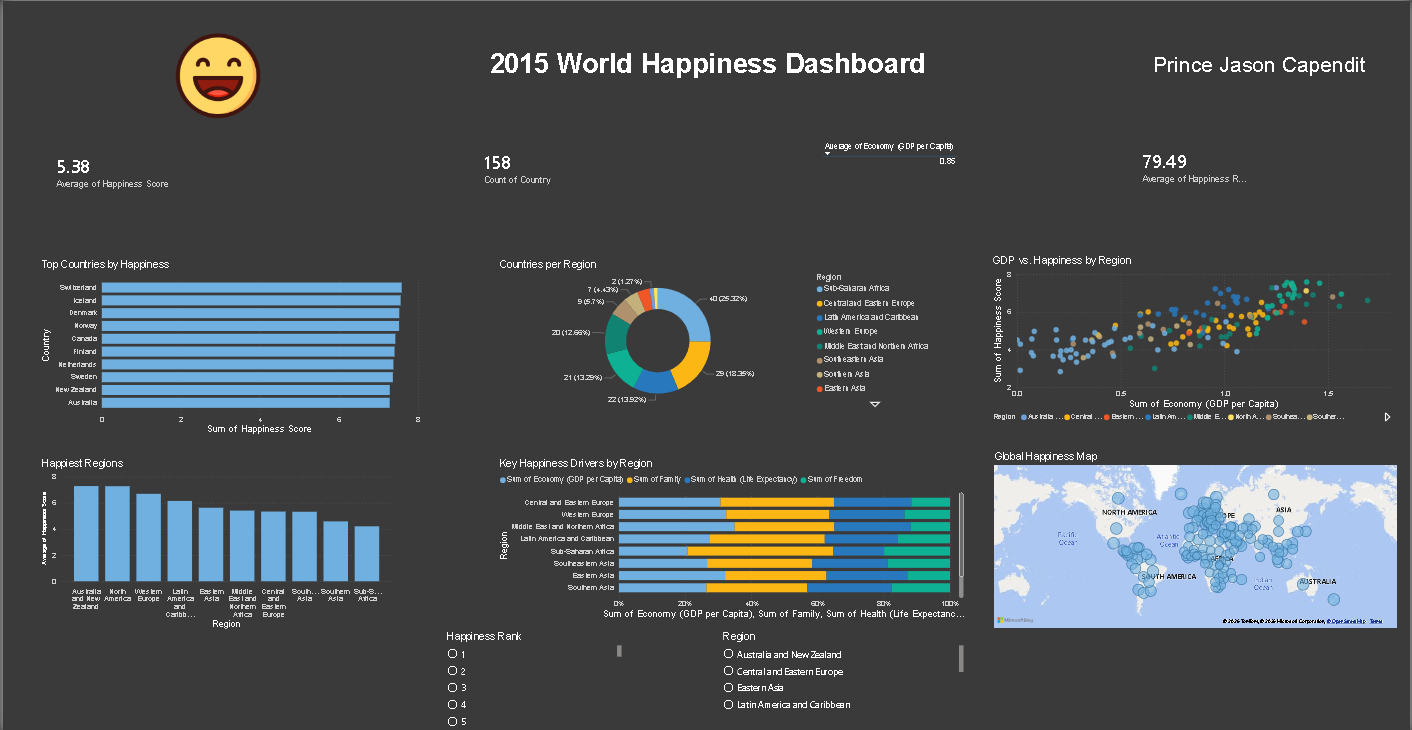

The page's visual inventory and layout, read from the dashboard file:
{"tool":"powerbi","page":{"name":"Page 1","canvas":[2500,1300],"ordinal":0},"visuals":[{"type":"cardVisual","title":"Avg. Happiness Score","fields":{"Data":["Avg(2015.Happiness Score)"]},"box":[65,245,270,115],"z":0},{"type":"cardVisual","fields":{"Data":["Count(2015.Country)"]},"box":[825,245,182.5,100],"z":1000},{"type":"cardVisual","fields":{"Data":["Avg(2015.Happiness Rank)"]},"box":[1995,222.5,250,142.5],"z":2000},{"type":"tableEx","fields":{"Values":["Avg(2015.Economy (GDP per Capita))"]},"box":[1450,245,307.5,87.5],"z":3000},{"type":"clusteredBarChart","title":"Top Countries by Happiness","fields":{"Category":["2015.Country"],"Y":["Sum(2015.Happiness Score)"]},"box":[65,457.5,682.5,317.5],"z":4000},{"type":"clusteredColumnChart","title":"Happiest Regions","fields":{"Category":["2015.Region"],"Y":["Avg(2015.Happiness Score)"]},"box":[65,810,632.5,310],"z":5000},{"type":"donutChart","title":"Countries per Region","fields":{"Category":["2015.Region"],"Y":["CountNonNull(2015.Country)"]},"box":[878,458,780,272],"z":6000},{"type":"scatterChart","title":"GDP vs. Happiness by Region","fields":{"Category":["2015.Country"],"X":["Sum(2015.Economy (GDP per Capita))"],"Y":["Sum(2015.Happiness Score)"],"Series":["2015.Region"]},"box":[1755,450,725,307.5],"z":7000},{"type":"map","title":"Global Happiness Map","fields":{"Category":["2015.Country"],"Size":["Sum(2015.Happiness Score)"]},"box":[1757.5,800,725,320],"z":8000},{"type":"hundredPercentStackedBarChart","title":"Key Happiness Drivers by Region","fields":{"Category":["2015.Region"],"Y":["Sum(2015.Economy (GDP per Capita))","Sum(2015.Family)","Sum(2015.Health (Life Expectancy))","Sum(2015.Freedom)"]},"box":[877.5,810,835,292.5],"z":9000},{"type":"listSlicer","fields":{"Values":["2015.Happiness Rank"]},"box":[785,1120,320,175],"z":10000},{"type":"textbox","box":[860,77.5,817.5,107.5],"z":11000},{"type":"textbox","box":[2040,87.5,410,87.5],"z":12000},{"type":"image","box":[260,57.5,245,150],"z":13000},{"type":"listSlicer","fields":{"Values":["2015.Region"]},"box":[1275,1120,437.5,150],"z":14000}]}

Visuals, with their boxes in screenshot pixels (x1, y1, x2, y2), scaled from the page's 2500x1300 canvas onto the 1412x730 screenshot:
"Avg. Happiness Score" cardVisual: (37,138,189,202)
cardVisual - Count(2015.Country): (466,138,569,194)
cardVisual - Avg(2015.Happiness Rank): (1127,125,1268,205)
tableEx - Avg(2015.Economy (GDP per Capita)): (819,138,993,187)
"Top Countries by Happiness" clusteredBarChart: (37,257,422,435)
"Happiest Regions" clusteredColumnChart: (37,455,394,629)
"Countries per Region" donutChart: (496,257,936,410)
"GDP vs. Happiness by Region" scatterChart: (991,253,1401,425)
"Global Happiness Map" map: (993,449,1402,629)
"Key Happiness Drivers by Region" hundredPercentStackedBarChart: (496,455,967,619)
listSlicer - 2015.Happiness Rank: (443,629,624,727)
textbox: (486,44,947,104)
textbox: (1152,49,1384,98)
image: (147,32,285,117)
listSlicer - 2015.Region: (720,629,967,713)
